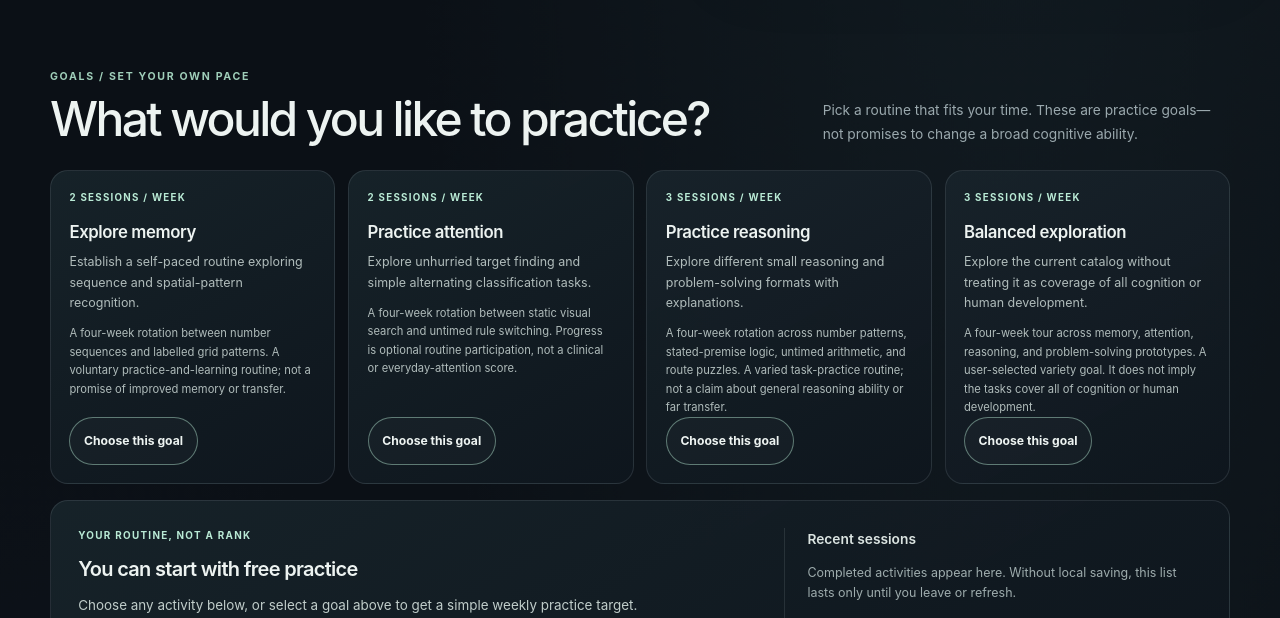
Scenario: TrainingHub › keeps schedule controls usable in page memory after local storage fails
The width and height of the screenshot is (1280, 618).
(page scrolled)
Expected: the element "Explore memory" is shown, [50,170,335,484]
Click the button "Choose this goal" below "Explore memory": click(134, 441) [69,417,198,465]
(page scrolled)
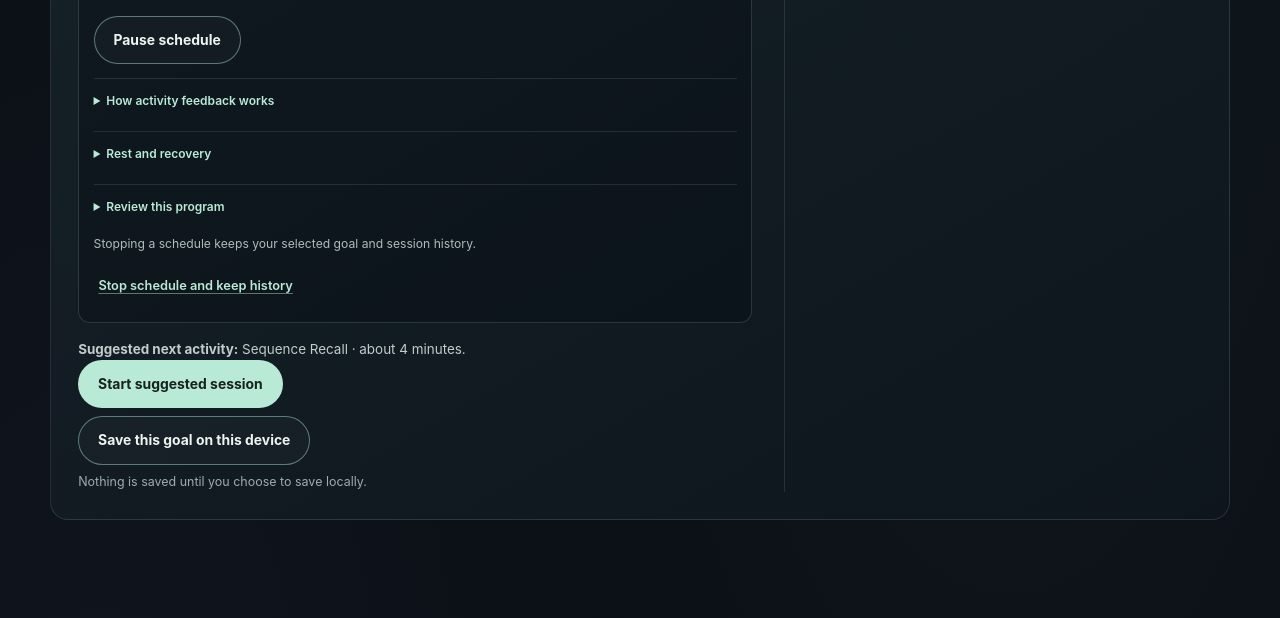
Click the button "Save this goal on this device": click(194, 440) [78,416,310,465]
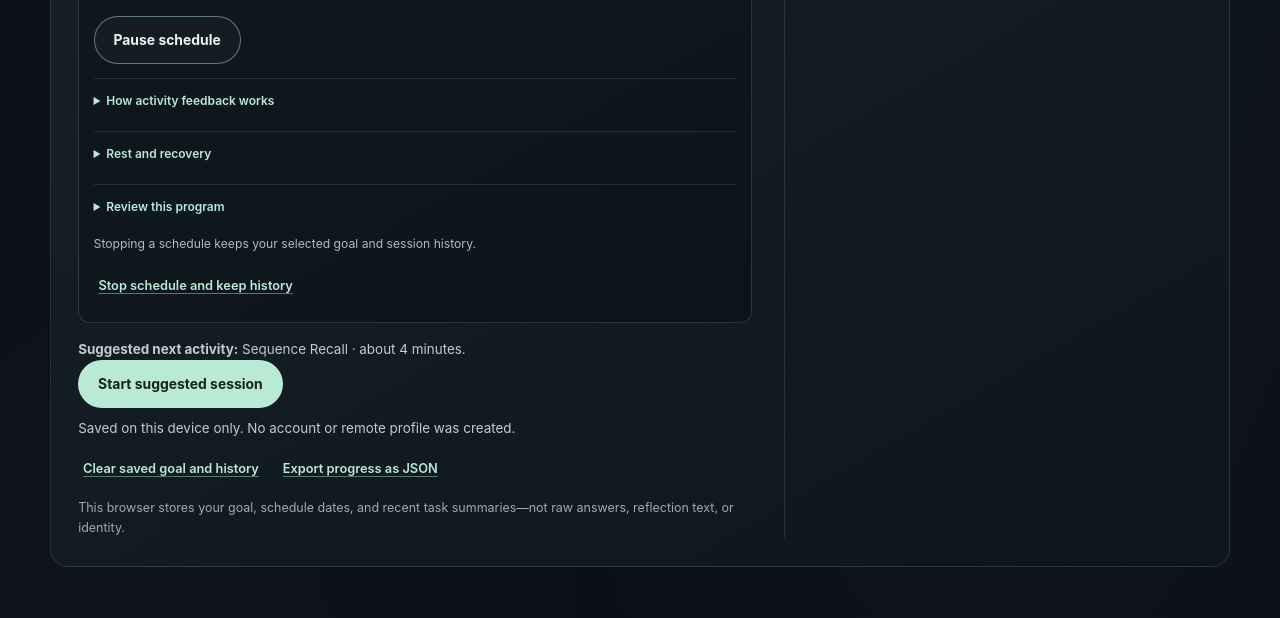
Click the button "Pause schedule": click(167, 40) [94,16,241,64]
(page scrolled)
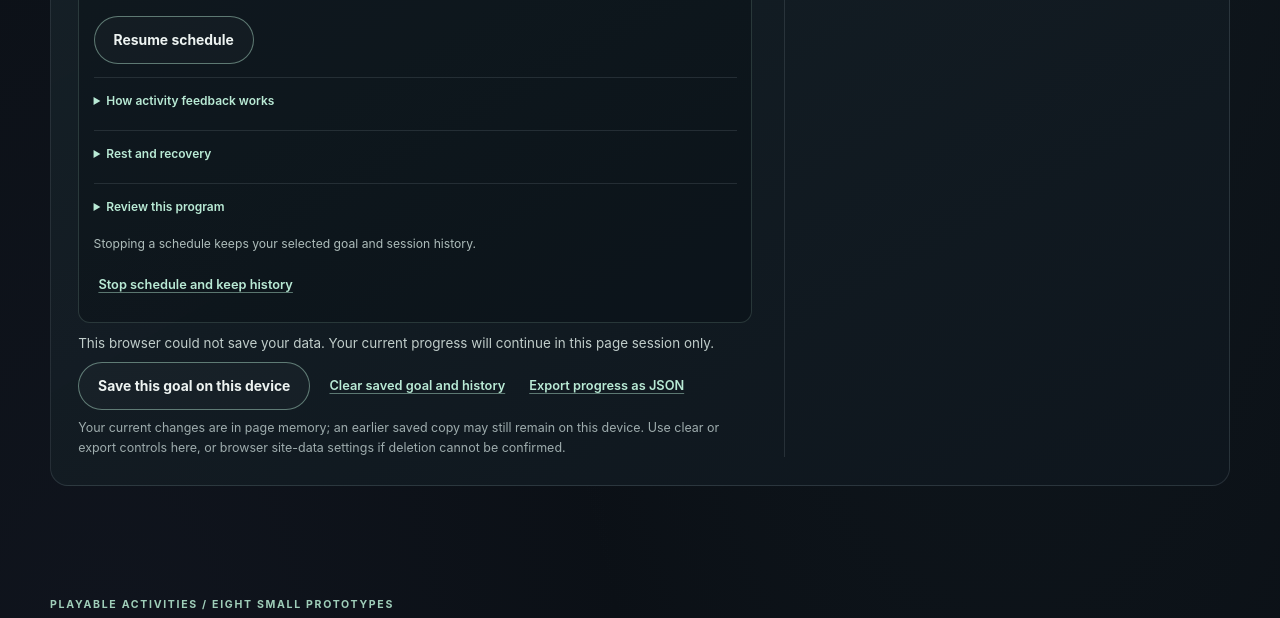
Expected: the button "Clear saved goal and history" is shown, [325,364,510,408]
Expected: the button "Export progress as JSON" is shown, [524,364,689,408]
Expected: the text "could not save your data" is shown, [78,335,714,351]
Click the button "Resume schedule": click(174, 40) [94,16,254,64]
(page scrolled)
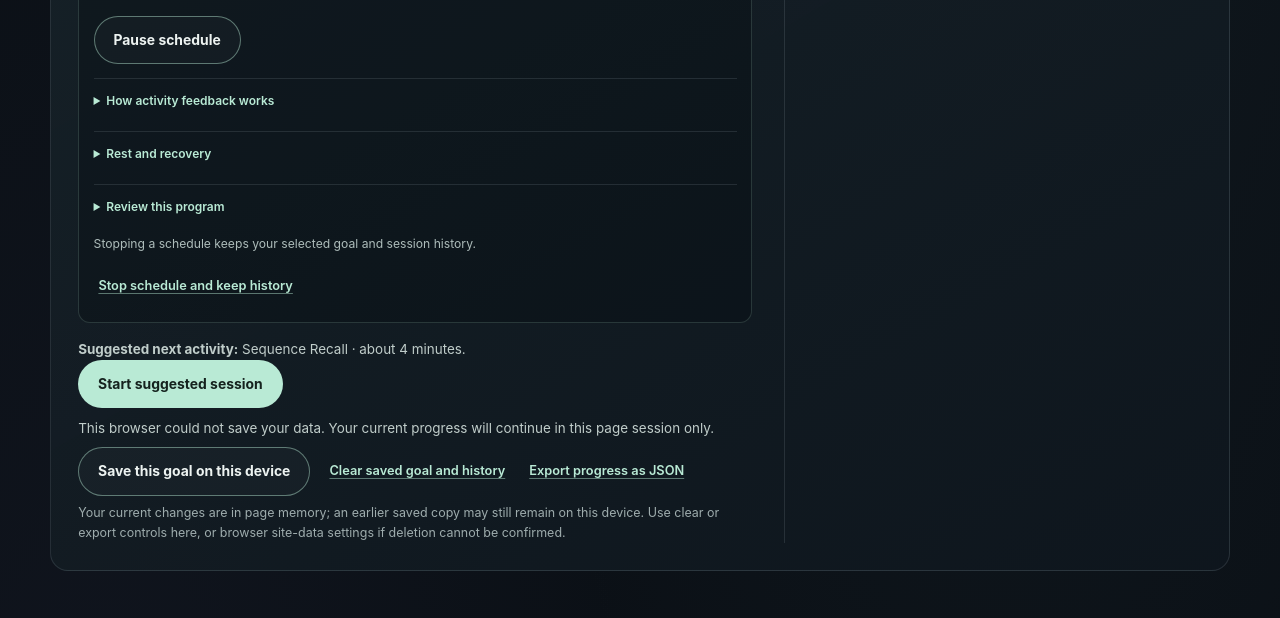
Expected: the button "Pause schedule" is shown, [94,16,241,64]
Click the button "Stop schedule and keep history": click(196, 286) [94,264,298,308]
(page scrolled)
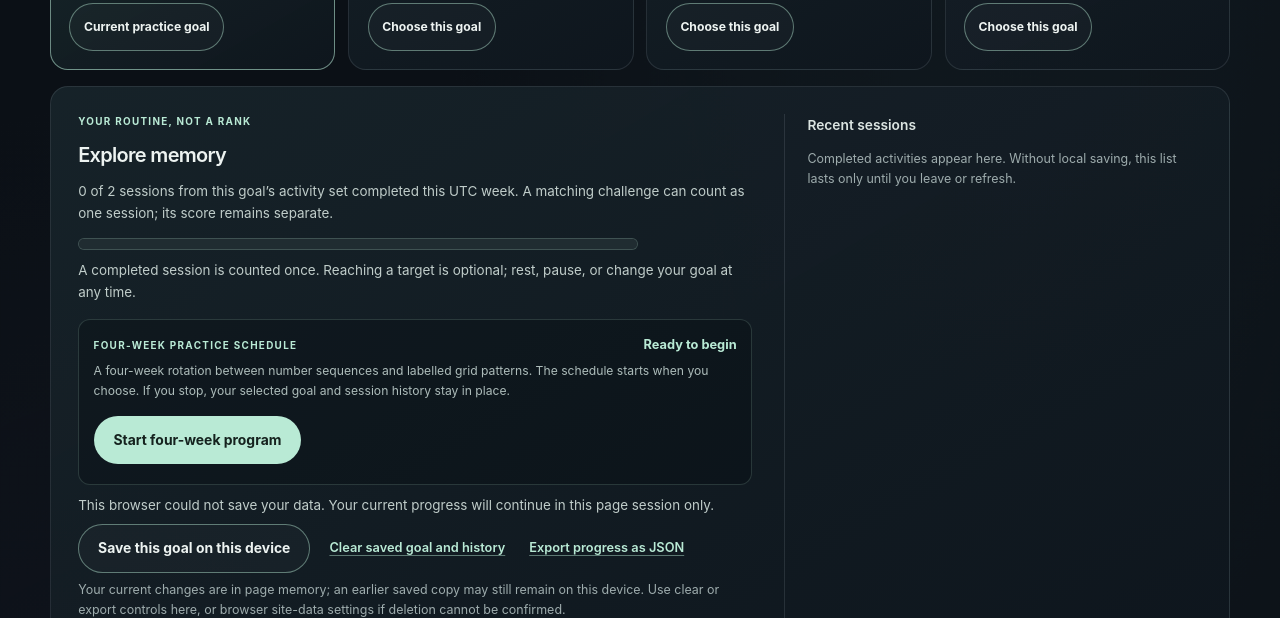
Expected: the button "Start four-week program" is shown, [94,416,301,464]
